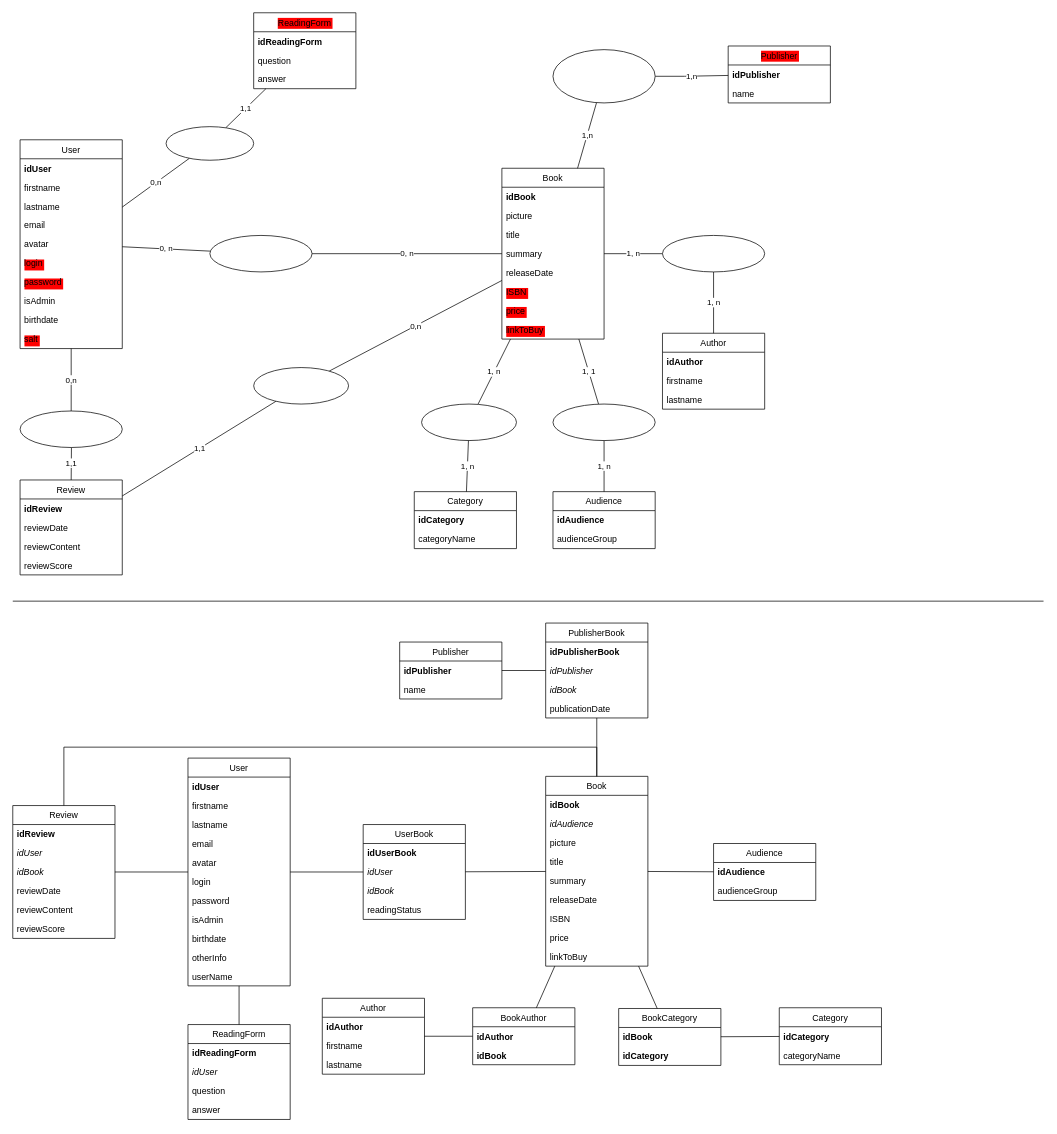
The diagram is 1057 pixels wide and 1134 high, and some of its shapes have lost their labels. The shapes that lost their labels are listed below. From the top down, each one's centre as x and y in pixels, then its label:
(x=603, y=76): publishes -------------- publicationDate
(x=209, y=143): fills
(x=260, y=253): reads ______ readingStatus
(x=713, y=253): writes
(x=301, y=385): is about
(x=70, y=428): posts
(x=468, y=422): belongs
(x=603, y=422): targets
